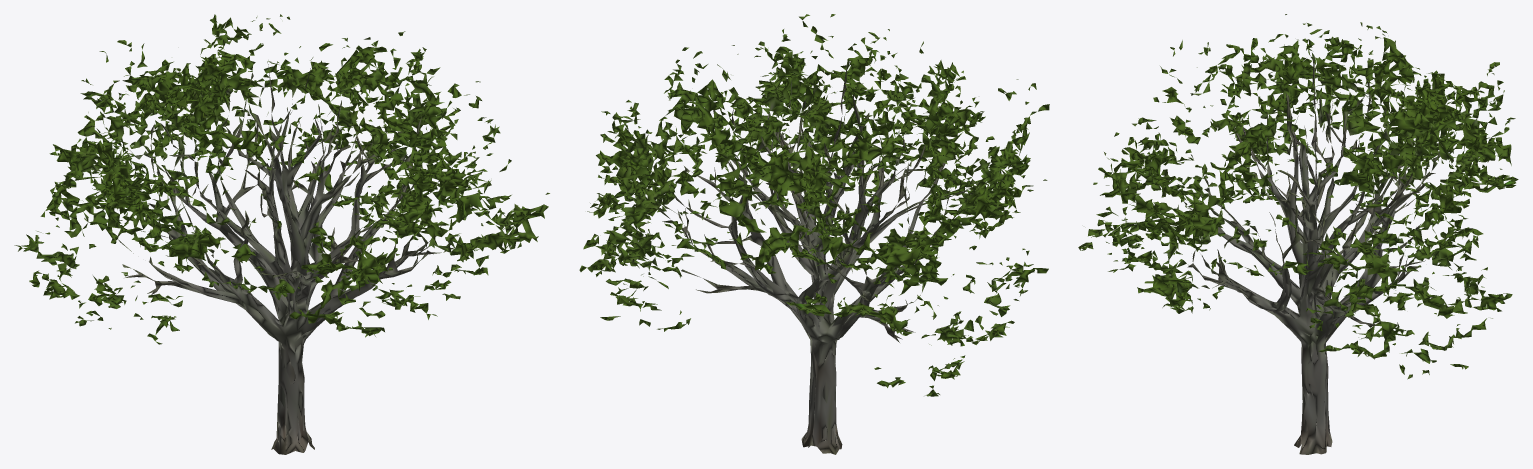
Rendered from zelkova.1.glb.
3 views of the same model, side by side, from view 1: azimuth 30°, elevation 25°; view 2: azimuth 150°, elevation 25°; view 3: azimuth 270°, elevation 25° (orthographic). The views are drawn at different scales.
Parts seen in each view (by area): view 1: lod; view 2: lod; view 3: lod.
Part boxes in pixels (x1=…): lod: x1=14, y1=14, x2=549, y2=454; lod: x1=579, y1=14, x2=1049, y2=454; lod: x1=1078, y1=14, x2=1518, y2=454.
Size of the model in its own units: 0.9632 by 0.9558 by 0.9041.
